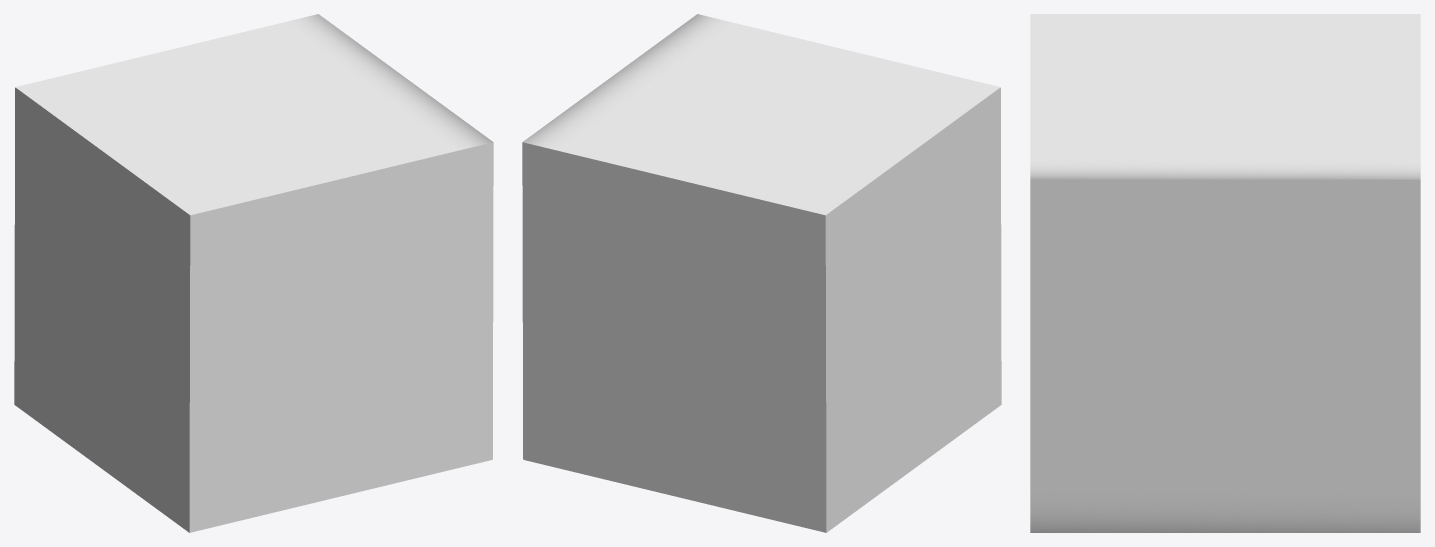
The model's file is TRIPURA.glb.
3 views of the same model, side by side, from view 1: azimuth 30°, elevation 25°; view 2: azimuth 150°, elevation 25°; view 3: azimuth 270°, elevation 25° (orthographic). The views are drawn at different scales.
Parts seen in each view (by area): view 1: BOX3; view 2: BOX3; view 3: BOX3.
Part boxes in pixels (x1,y1,x2,y2): BOX3: [14, 14, 493, 532]; BOX3: [522, 14, 1001, 532]; BOX3: [1030, 14, 1420, 532].
Size of what is drawn, in the model's own units: 12.03 by 12.03 by 12.
Materials: 1 (1 with a texture image).
